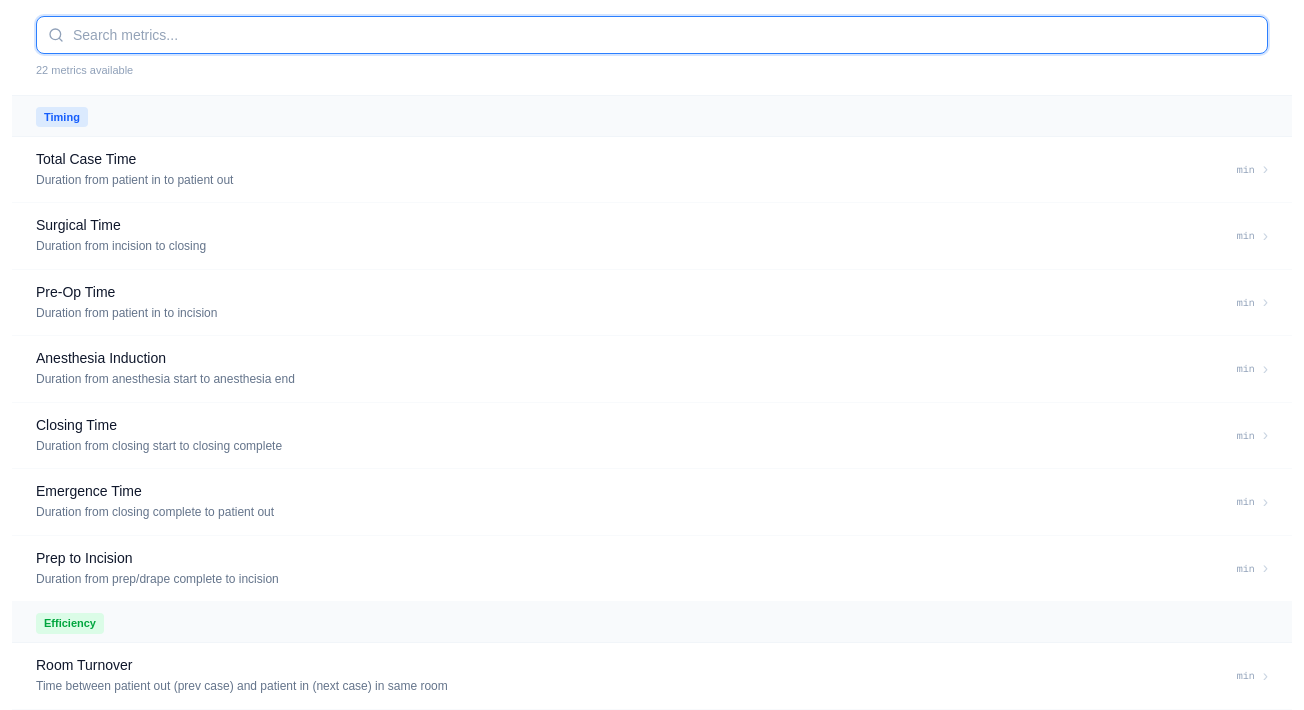
Test: MetricSearchStep › Search functionality › shows empty state when no metrics match search
The width and height of the screenshot is (1304, 710).
Type "zzzznonexistent" into the field with placeholder "Search metrics..." at [652, 35], box [36,16,1268,54]
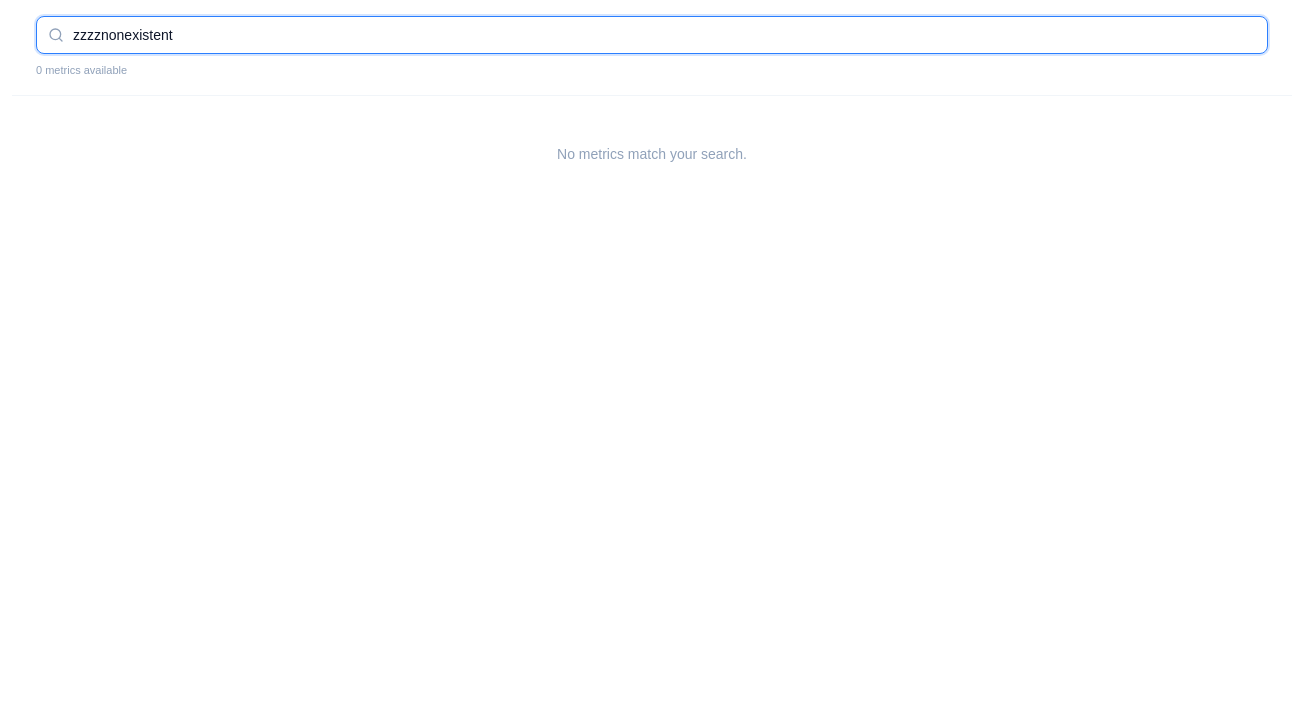
Expected: the text "No metrics match your search." is shown, [557,146,747,162]
Expected: the text "0 metrics available" is shown, [36,64,127,76]
